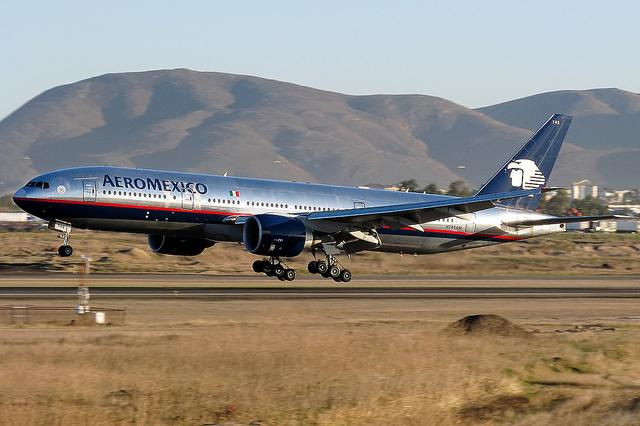airplane: (12, 112, 619, 283)
